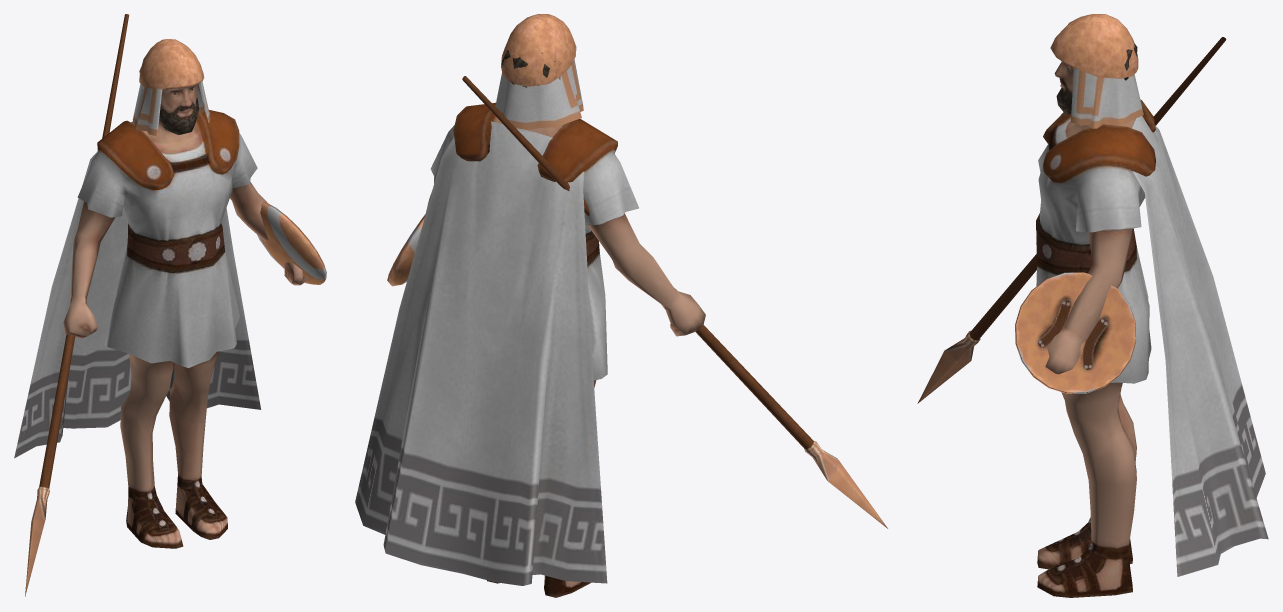
Rendered from 6-peltast.glb.
3 renders of one model, left to right at view 1: azimuth 30°, elevation 25°; view 2: azimuth 150°, elevation 25°; view 3: azimuth 270°, elevation 25°, orthographic. The views are drawn at different scales.
Size of the model in its own units: 1.63 by 2.12 by 1.21.
Materials: 4 (4 with a texture image).
